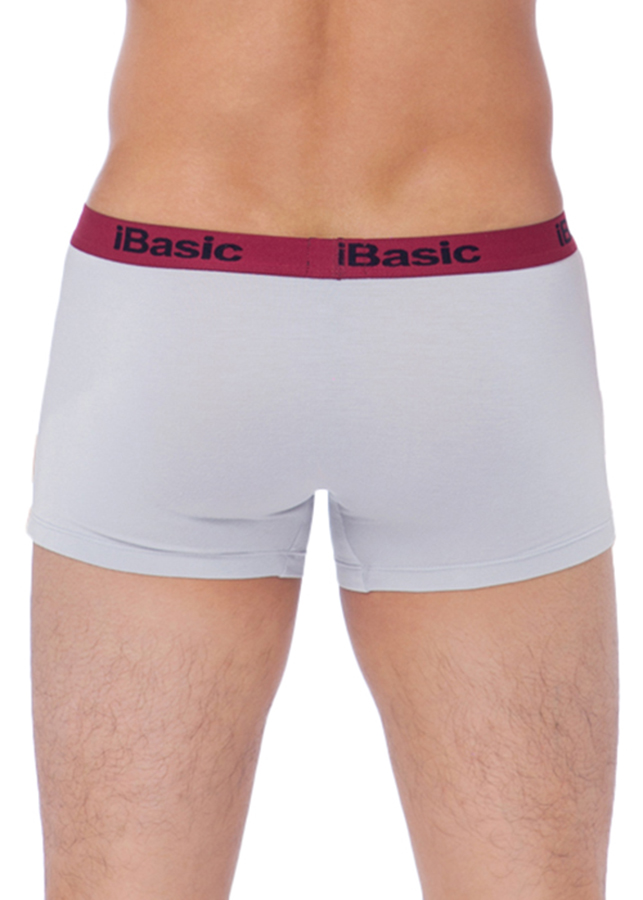iBasic: (103, 219, 249, 271), (331, 234, 495, 275)
